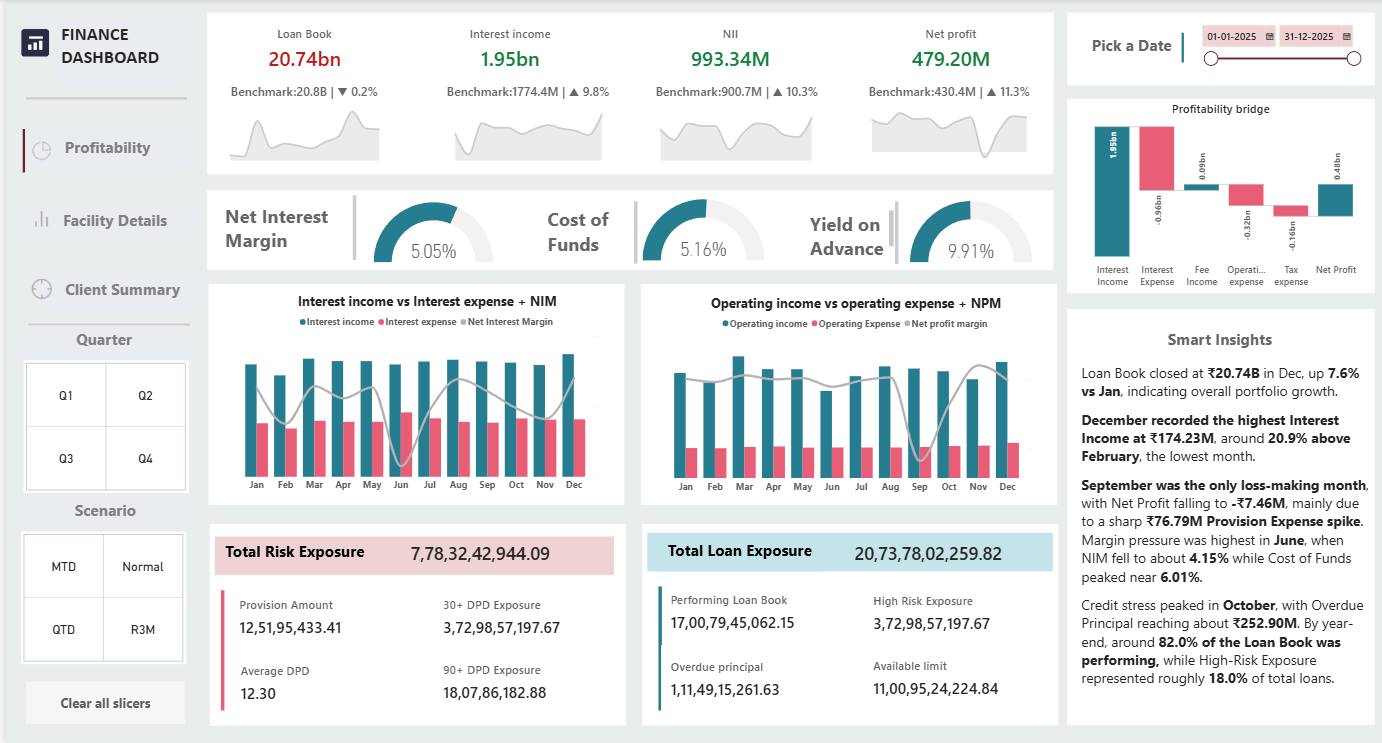

Layout of this report page (visuals, bound fields, positions):
{"tool":"powerbi","page":{"name":"Profitability","canvas":[2400,1300],"ordinal":0},"visuals":[{"type":"image","box":[0,24,102,105],"z":0},{"type":"textbox","box":[92,37,223,113],"z":1000},{"type":"shape","box":[34,141,280,63],"z":2000},{"type":"shape","box":[39.2,536.3,281.3,63.2],"z":3000},{"type":"textbox","box":[37.8,235.8,280.3,57.8],"z":4000},{"type":"textbox","box":[51.2,362.6,280.3,57.8],"z":5000},{"type":"textbox","box":[62.3,480.5,280.3,60.1],"z":6000},{"type":"image","box":[0,202.4,124.6,124.6],"z":7000},{"type":"image","box":[0,327,124.6,111.2],"z":8000},{"type":"image","box":[0,453.8,124.6,102.3],"z":9000},{"type":"shape","box":[0,226.9,62.3,75.6],"z":10000},{"type":"shape","box":[351.2,24.8,1474.7,281.4],"z":11000},{"type":"shape","box":[351.2,333.2,1474.7,139.6],"z":12000},{"type":"shape","box":[352,497,725,385],"z":13000},{"type":"shape","box":[1105.7,496.1,725.3,384.9],"z":14000},{"type":"shape","box":[356,914.4,725.3,351.5],"z":15000},{"type":"shape","box":[1107.7,914.1,725,351.2],"z":16000},{"type":"shape","box":[1848.7,24.5,536.2,126.8],"z":17000},{"type":"shape","box":[1848.7,173.5,536.2,338.2],"z":18000},{"type":"shape","box":[1848.4,540.3,535.8,725],"z":19000},{"type":"advancedSlicerVisual","fields":{"Values":["Calculation group.Time period"]},"box":[26.2,928.8,287.8,231.1],"z":20000},{"type":"textbox","box":[32.7,867.7,281.3,61],"z":21000},{"type":"textbox","box":[30.5,569,281.3,61],"z":22000},{"type":"advancedSlicerVisual","fields":{"Values":["Dim_date.Quarter"]},"box":[30.5,630.1,287.8,231.1],"z":23000},{"type":"cardVisual","fields":{"Data":["Z_measures.Loan Book"]},"box":[355.4,24,331.4,124.3],"z":24000},{"type":"cardVisual","fields":{"Data":["Z_measures.Interest income"]},"box":[719.5,24,320.5,124.3],"z":25000},{"type":"cardVisual","fields":{"Data":["Z_measures.Net Interest income"]},"box":[1105.4,24,316.1,124.3],"z":26000},{"type":"cardVisual","fields":{"Data":["Z_measures.Net profit"]},"box":[1467.3,24,357.6,124.3],"z":27000},{"type":"slicer","fields":{"Values":["Dim_date.Date"]},"box":[2071.2,34.9,298.7,102.5],"z":28000},{"type":"cardVisual","fields":{"Data":["Z_measures.Loan Book Benchmark display"]},"box":[355.7,121.6,331,60.8],"z":29000},{"type":"cardVisual","fields":{"Data":["Z_measures.Interest Income benchmark display"]},"box":[745.2,121.6,331,60.8],"z":30000},{"type":"cardVisual","fields":{"Data":["Z_measures.Net Interest Income benchmark display"]},"box":[1107.7,121.6,331,60.8],"z":31000},{"type":"cardVisual","fields":{"Data":["Z_measures.Net profit benchmark display"]},"box":[1479.2,121.6,331,60.8],"z":32000},{"type":"areaChart","fields":{"Category":["Dim_date.Month"],"Y":["Z_measures.Loan Book"]},"box":[376,173.4,288.2,112.6],"z":33000},{"type":"areaChart","fields":{"Category":["Dim_date.Month"],"Y":["Z_measures.Interest income"]},"box":[770,173.4,283.7,112.6],"z":34000},{"type":"areaChart","fields":{"Category":["Dim_date.Month"],"Y":["Z_measures.Net Interest income"]},"box":[1125.7,175.6,292.7,110.3],"z":35000},{"type":"areaChart","fields":{"Category":["Dim_date.Month"],"Y":["Z_measures.Net profit"]},"box":[1494.9,177.9,299.4,119.3],"z":36000},{"type":"textbox","box":[376,351.2,229.6,105.8],"z":37000},{"type":"gauge","fields":{"Y":["Z_measures.Net Interest Margin"]},"box":[637.1,328.7,218.4,155.3],"z":38000},{"type":"shape","box":[551.6,342.2,112.6,112.6],"z":39000},{"type":"shape","box":[1040.2,353.5,112.6,108.1],"z":40000},{"type":"textbox","box":[938.8,358,150.8,108.1],"z":41000},{"type":"gauge","fields":{"Y":["Z_measures.Cost of Funds"]},"box":[1105.4,319.7,222.9,164.4],"z":42000},{"type":"textbox","box":[1395.9,364.7,155.3,99.1],"z":43000},{"type":"shape","box":[1495.6,353.2,111.2,109],"z":44000},{"type":"gauge","fields":{"Y":["Z_measures.Yeild on Advances"]},"box":[1571.5,328.7,222.9,153.1],"z":45000},{"type":"lineClusteredColumnComboChart","title":"Interest income vs Interest expense + NIM","fields":{"Category":["Dim_date.Month"],"Y":["Z_measures.Interest income","Z_measures.Interest expense"],"Y2":["Z_measures.Net Interest Margin"]},"box":[376,497.6,700.2,382.7],"z":46000},{"type":"lineClusteredColumnComboChart","title":"Operating income vs operating expense + NPM","fields":{"Category":["Dim_date.Month"],"Y2":["Z_measures.Net profit margin"],"Y":["Z_measures.Operating income","Z_measures.Operating Expense"]},"box":[1123.5,499.8,700.2,382.7],"z":47000},{"type":"waterfallChart","title":"Profitability bridge","fields":{"Y":["Profitability bridge.Profitability bridge value"],"Category":["Profitability bridge.Stage"]},"box":[1848.4,175.6,535.8,335.5],"z":48000},{"type":"shape","box":[1116.7,929.8,706.9,67.5],"z":49000},{"type":"textbox","box":[1139.2,936.6,279.2,60.8],"z":50000},{"type":"cardVisual","fields":{"Data":["Z_measures.Performing Loan Book"]},"box":[1141.5,1010.9,353.5,114.8],"z":51000},{"type":"shape","box":[1116.7,1024.4,45,216.1],"z":52000},{"type":"cardVisual","fields":{"Data":["Z_measures.Overdue principal"]},"box":[1141.5,1125.7,353.5,117.1],"z":53000},{"type":"cardVisual","fields":{"Data":["Z_measures.High Risk Exposure"]},"box":[1494.9,1013.1,328.7,114.8],"z":54000},{"type":"cardVisual","fields":{"Data":["Z_measures.Available limit"]},"box":[1494.9,1125.7,328.7,114.8],"z":55000},{"type":"cardVisual","fields":{"Data":["Z_measures.Loan Book"]},"box":[1461.2,920.8,371.5,83.3],"z":56000},{"type":"shape","box":[364.4,936.2,695.7,67.5],"z":57000},{"type":"textbox","box":[364.7,938.8,279.2,60.8],"z":58000},{"type":"shape","box":[355.7,1031.1,45,209.4],"z":59000},{"type":"cardVisual","fields":{"Data":["Z_measures.Average DPD"]},"box":[391.4,1132.1,353.5,117.1],"z":60000},{"type":"cardVisual","fields":{"Data":["Z_measures.30+ DPD Exposure"]},"box":[744.9,1019.5,328.7,114.8],"z":61000},{"type":"cardVisual","fields":{"Data":["Z_measures.90+ DPD Exposure"]},"box":[744.9,1132.1,328.7,114.8],"z":62000},{"type":"cardVisual","fields":{"Data":["Z_measures.Total Risk Exposure"]},"box":[688.6,920.5,371.5,83.3],"z":63000},{"type":"cardVisual","fields":{"Data":["Z_measures.Provision Amount"]},"box":[389.5,1019.9,353.5,114.8],"z":64000},{"type":"textbox","box":[1976.7,569.6,279.2,60.8],"z":65000},{"type":"textbox","box":[1868.7,630.4,515.6,668.7],"z":66000},{"type":"textbox","box":[1850.7,56.3,220.6,54],"z":67000},{"type":"shape","box":[2024,58.5,54,51.8],"z":68000},{"type":"actionButton","box":[34.9,1190.4,276.9,74.1],"z":68001}]}

Visuals, with their boxes in screenshot pixels (x1, y1, x2, y2), scaled from the page's 2400x1300 canvas onto the 1382x743 screenshot:
image: select_region(0, 14, 59, 74)
textbox: select_region(53, 21, 181, 86)
shape: select_region(20, 81, 181, 117)
shape: select_region(23, 307, 185, 343)
textbox: select_region(22, 135, 183, 168)
textbox: select_region(29, 207, 191, 240)
textbox: select_region(36, 275, 197, 309)
image: select_region(0, 116, 72, 187)
image: select_region(0, 187, 72, 250)
image: select_region(0, 259, 72, 318)
shape: select_region(0, 130, 36, 173)
shape: select_region(202, 14, 1051, 175)
shape: select_region(202, 190, 1051, 270)
shape: select_region(203, 284, 620, 504)
shape: select_region(637, 284, 1054, 504)
shape: select_region(205, 523, 623, 724)
shape: select_region(638, 522, 1055, 723)
shape: select_region(1065, 14, 1373, 86)
shape: select_region(1065, 99, 1373, 292)
shape: select_region(1064, 309, 1373, 723)
advancedSlicerVisual - Calculation group.Time period: select_region(15, 531, 181, 663)
textbox: select_region(19, 496, 181, 531)
textbox: select_region(18, 325, 180, 360)
advancedSlicerVisual - Dim_date.Quarter: select_region(18, 360, 183, 492)
cardVisual - Z_measures.Loan Book: select_region(205, 14, 395, 85)
cardVisual - Z_measures.Interest income: select_region(414, 14, 599, 85)
cardVisual - Z_measures.Net Interest income: select_region(637, 14, 819, 85)
cardVisual - Z_measures.Net profit: select_region(845, 14, 1051, 85)
slicer - Dim_date.Date: select_region(1193, 20, 1365, 79)
cardVisual - Z_measures.Loan Book Benchmark display: select_region(205, 69, 395, 104)
cardVisual - Z_measures.Interest Income benchmark display: select_region(429, 69, 620, 104)
cardVisual - Z_measures.Net Interest Income benchmark display: select_region(638, 69, 828, 104)
cardVisual - Z_measures.Net profit benchmark display: select_region(852, 69, 1042, 104)
areaChart - Dim_date.Month x Z_measures.Loan Book: select_region(217, 99, 382, 163)
areaChart - Dim_date.Month x Z_measures.Interest income: select_region(443, 99, 607, 163)
areaChart - Dim_date.Month x Z_measures.Net Interest income: select_region(648, 100, 817, 163)
areaChart - Dim_date.Month x Z_measures.Net profit: select_region(861, 102, 1033, 170)
textbox: select_region(217, 201, 349, 261)
gauge - Z_measures.Net Interest Margin: select_region(367, 188, 493, 277)
shape: select_region(318, 196, 382, 260)
shape: select_region(599, 202, 664, 264)
textbox: select_region(541, 205, 627, 266)
gauge - Z_measures.Cost of Funds: select_region(637, 183, 765, 277)
textbox: select_region(804, 208, 893, 265)
shape: select_region(861, 202, 925, 264)
gauge - Z_measures.Yeild on Advances: select_region(905, 188, 1033, 275)
"Interest income vs Interest expense + NIM" lineClusteredColumnComboChart: select_region(217, 284, 620, 503)
"Operating income vs operating expense + NPM" lineClusteredColumnComboChart: select_region(647, 286, 1050, 504)
"Profitability bridge" waterfallChart: select_region(1064, 100, 1373, 292)
shape: select_region(643, 531, 1050, 570)
textbox: select_region(656, 535, 817, 570)
cardVisual - Z_measures.Performing Loan Book: select_region(657, 578, 861, 643)
shape: select_region(643, 585, 669, 709)
cardVisual - Z_measures.Overdue principal: select_region(657, 643, 861, 710)
cardVisual - Z_measures.High Risk Exposure: select_region(861, 579, 1050, 645)
cardVisual - Z_measures.Available limit: select_region(861, 643, 1050, 709)
cardVisual - Z_measures.Loan Book: select_region(841, 526, 1055, 574)
shape: select_region(210, 535, 610, 574)
textbox: select_region(210, 537, 371, 571)
shape: select_region(205, 589, 231, 709)
cardVisual - Z_measures.Average DPD: select_region(225, 647, 429, 714)
cardVisual - Z_measures.30+ DPD Exposure: select_region(429, 583, 618, 648)
cardVisual - Z_measures.90+ DPD Exposure: select_region(429, 647, 618, 713)
cardVisual - Z_measures.Total Risk Exposure: select_region(397, 526, 610, 574)
cardVisual - Z_measures.Provision Amount: select_region(224, 583, 428, 649)
textbox: select_region(1138, 326, 1299, 360)
textbox: select_region(1076, 360, 1373, 742)
textbox: select_region(1066, 32, 1193, 63)
shape: select_region(1165, 33, 1197, 63)
actionButton: select_region(20, 680, 180, 723)
